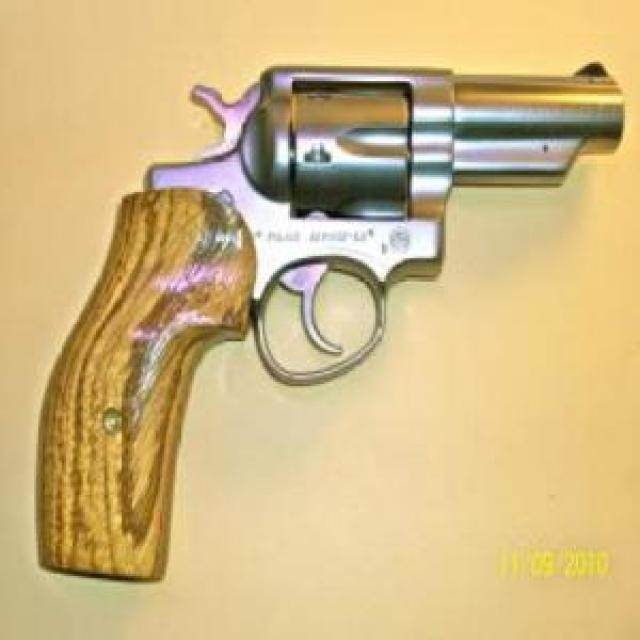pistol: (28, 60, 627, 582)
